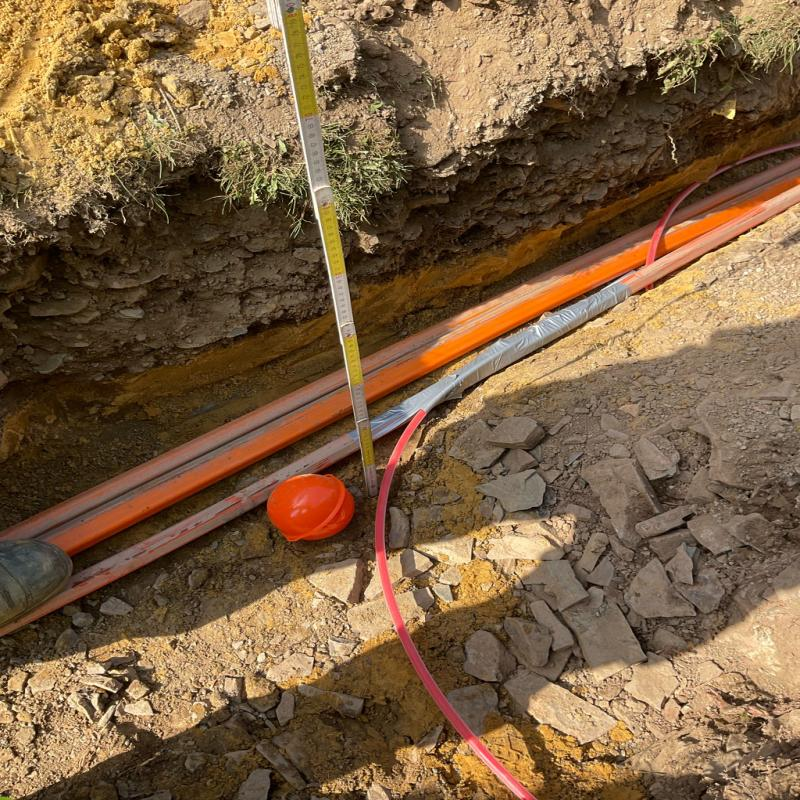Kugelmarker: (263, 475, 352, 539)
Orang-Speednetrohrchen: (16, 186, 771, 582)
